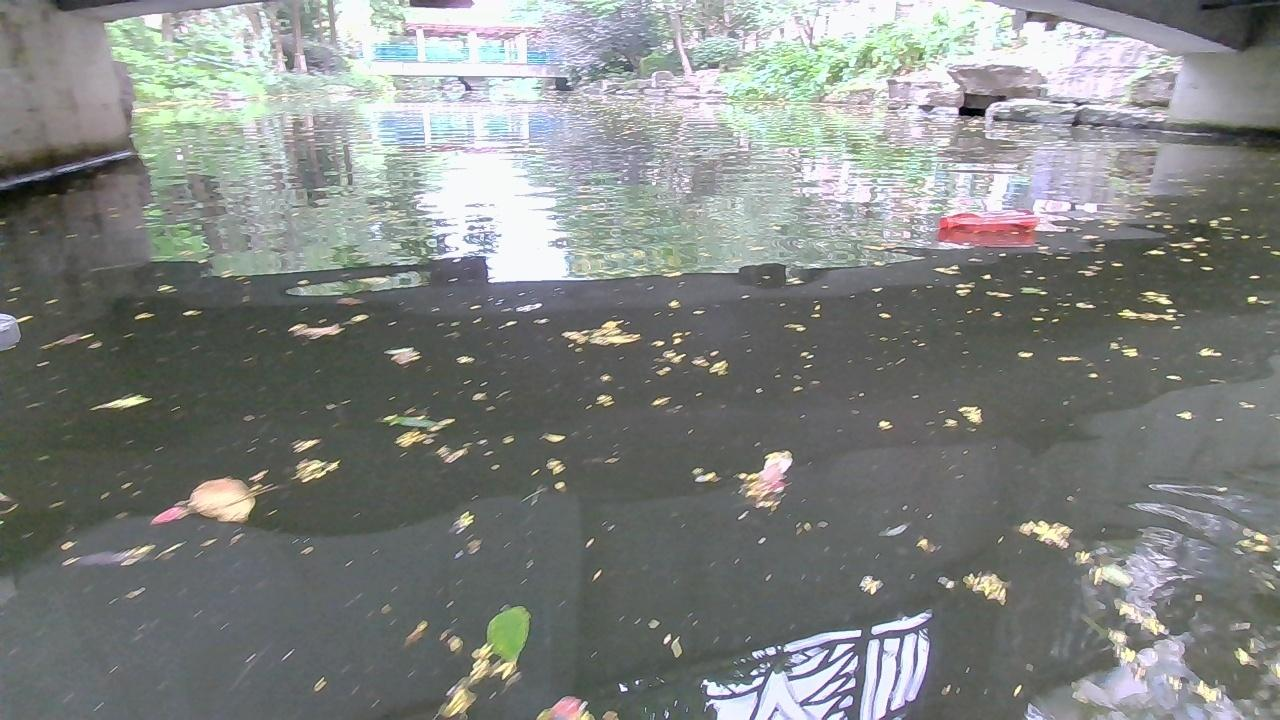bottle: (937, 208, 1039, 230)
